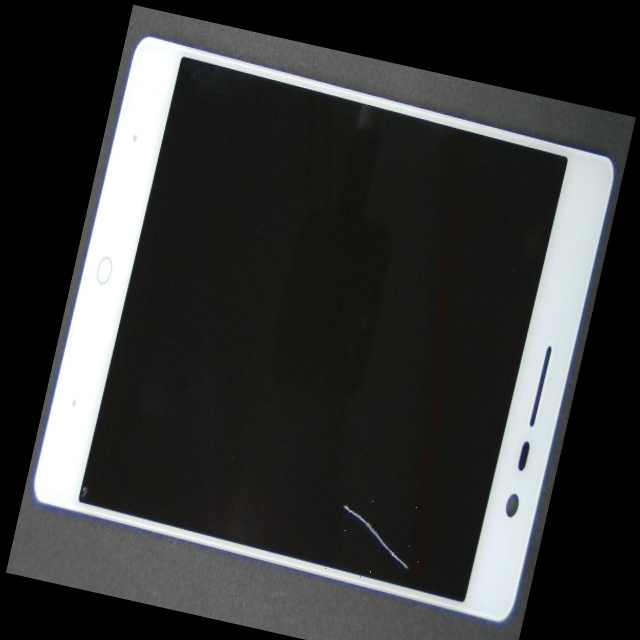scratch: (107, 222, 574, 640)
